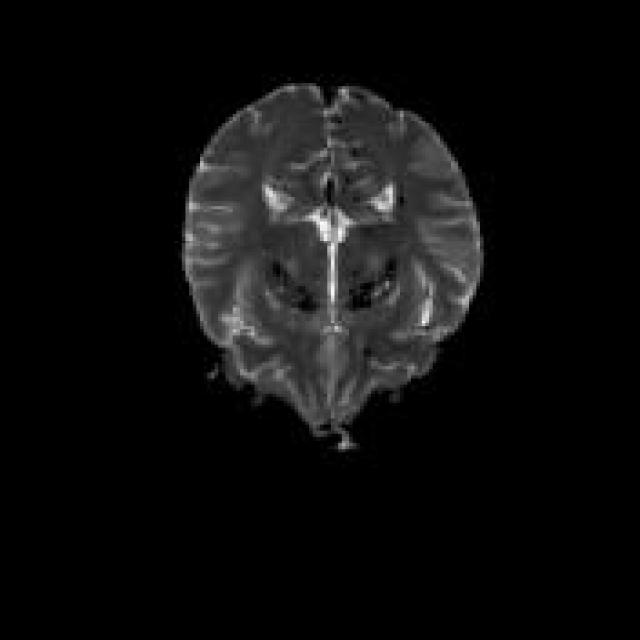parkinson: (178, 77, 484, 452)
